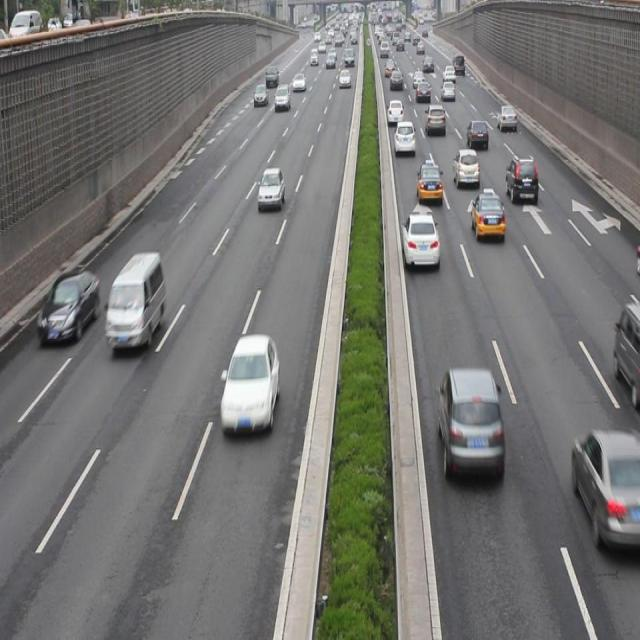car: (571, 427, 640, 548), (437, 366, 502, 481), (220, 335, 279, 435), (38, 269, 99, 345), (402, 212, 438, 270), (470, 191, 504, 242), (505, 155, 536, 201), (258, 167, 284, 212), (416, 161, 442, 204), (452, 148, 478, 189), (394, 119, 416, 156), (466, 117, 488, 148), (424, 104, 445, 136), (496, 102, 516, 131), (387, 98, 403, 125)
truck: (106, 251, 164, 352), (614, 302, 640, 396)
